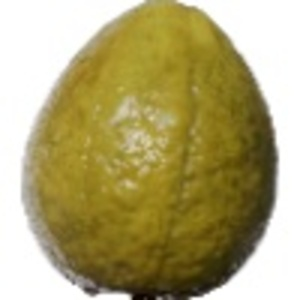goiaba: (12, 5, 281, 294)
